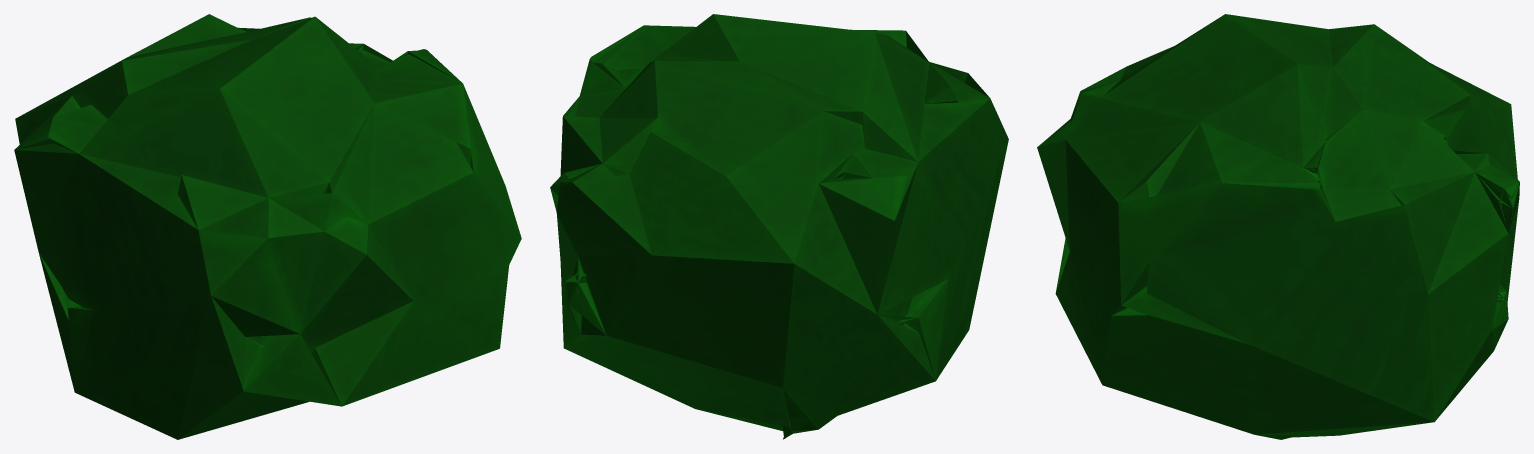
Rendered from bush.glb.
3 renders of one model, left to right at view 1: azimuth 30°, elevation 25°; view 2: azimuth 150°, elevation 25°; view 3: azimuth 270°, elevation 25°, orthographic. The views are drawn at different scales.
Visible parts, largest first — view 1: Mesh; view 2: Mesh; view 3: Mesh.
Boxes of the visible parts, x1,y1,x2,y2 form: Mesh: (14, 14, 521, 439); Mesh: (550, 14, 1008, 439); Mesh: (1037, 14, 1519, 439).
Bounding box in the file's own units: 1.6 × 1.58 × 1.84.
Materials: 1 (1 with a texture image).
